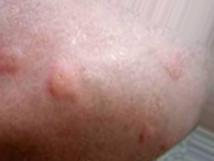Mosquito: (46, 65, 79, 101), (0, 48, 25, 72), (139, 121, 155, 142)
